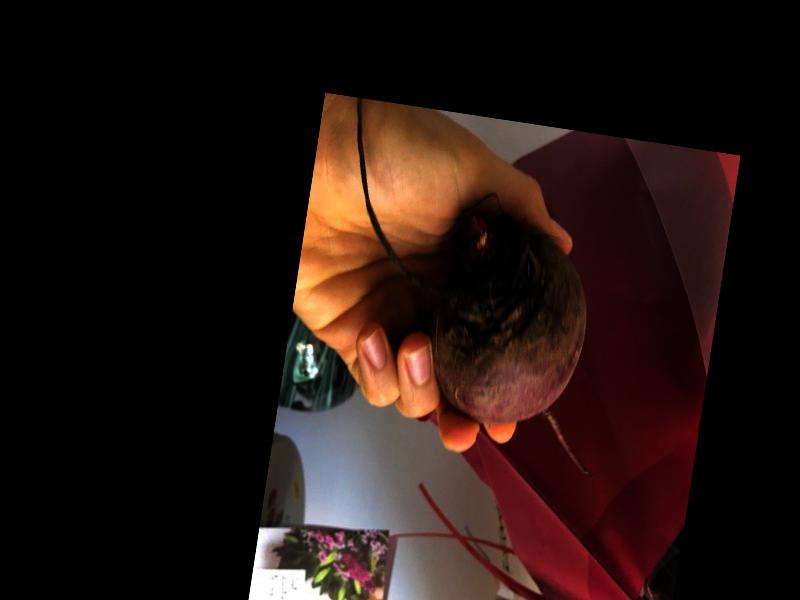Beet: (306, 101, 642, 479)
